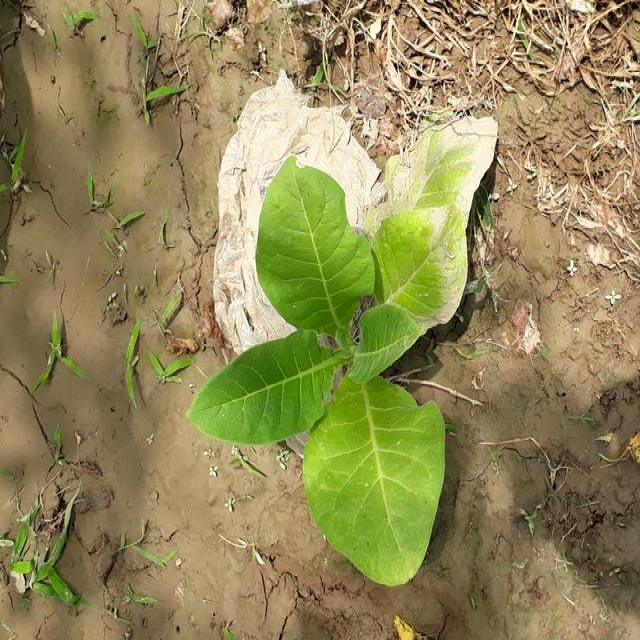crop: (194, 164, 480, 584)
